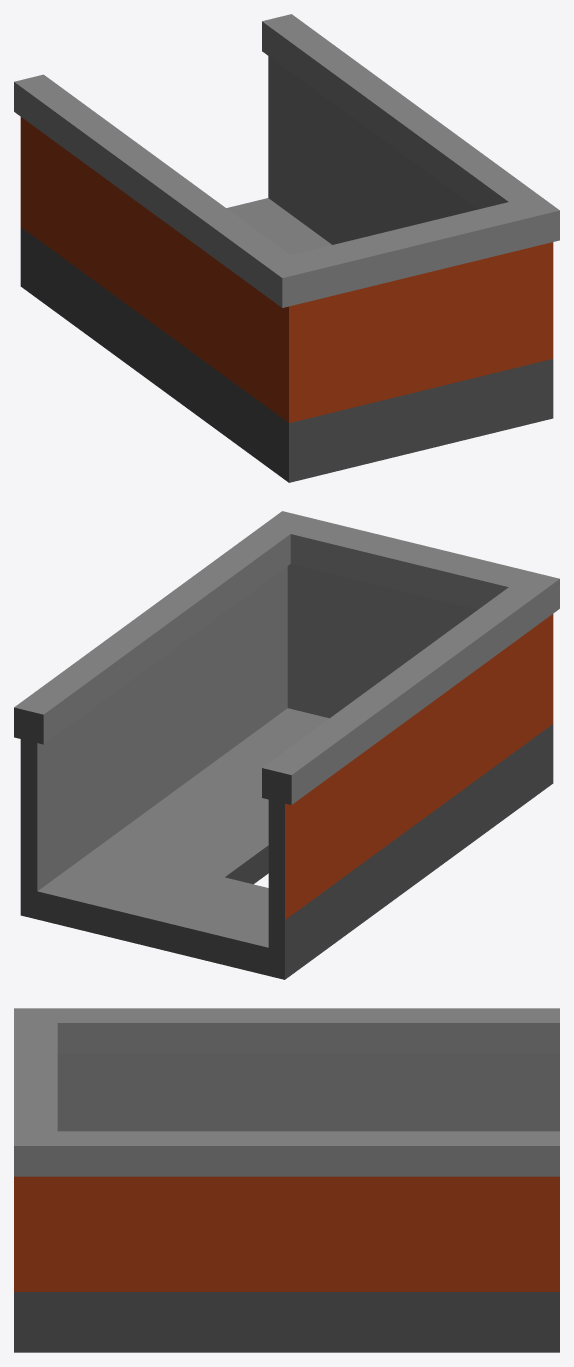
File: Building_07.fbx
3 views of the same model, one above another, from view 1: azimuth 30°, elevation 25°; view 2: azimuth 150°, elevation 25°; view 3: azimuth 270°, elevation 25° (orthographic).
Parts seen in each view (by area): view 1: Building_07; view 2: Building_07; view 3: Building_07.
Part boxes in pixels (bbox=[...]): Building_07: bbox=[14, 14, 559, 482]; Building_07: bbox=[14, 511, 559, 979]; Building_07: bbox=[14, 1008, 559, 1352].
Size of the model in its own units: 430 by 305 by 720.
Materials: 1 (1 with a texture image).
